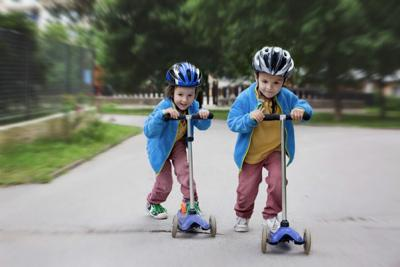With Helmet: (249, 42, 300, 101), (164, 60, 205, 111)
